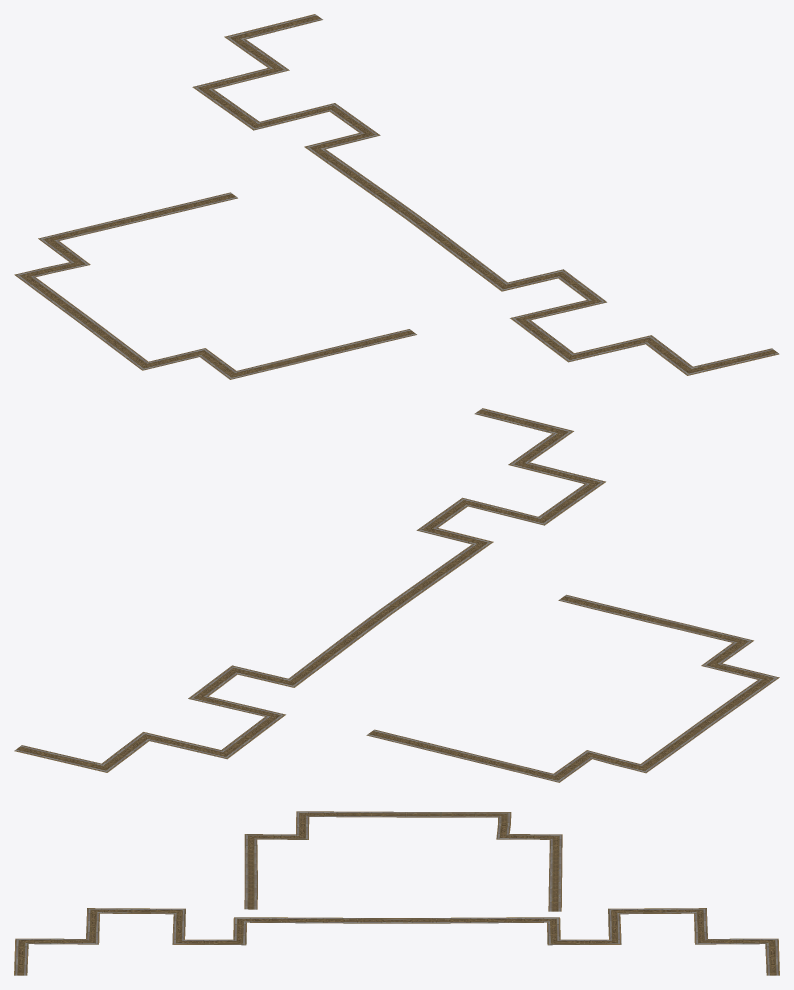
Rendered from Yland1_dm_10 Yland1.FBX.
The picture shows the model from 3 angles, top to bottom: view 1: azimuth 30°, elevation 25°; view 2: azimuth 150°, elevation 25°; view 3: azimuth 270°, elevation 25°; orthographic projection. The views are drawn at different scales.
Parts seen in each view (by area): view 1: Yland1_dm_10 Yland1; view 2: Yland1_dm_10 Yland1; view 3: Yland1_dm_10 Yland1.
Boxes of the visible parts, bbox=[...] form: Yland1_dm_10 Yland1: bbox=[14, 14, 779, 379]; Yland1_dm_10 Yland1: bbox=[14, 408, 779, 782]; Yland1_dm_10 Yland1: bbox=[14, 811, 779, 975].
Bounding box in the file's own units: 44.8 × 2.64 × 77.32.
